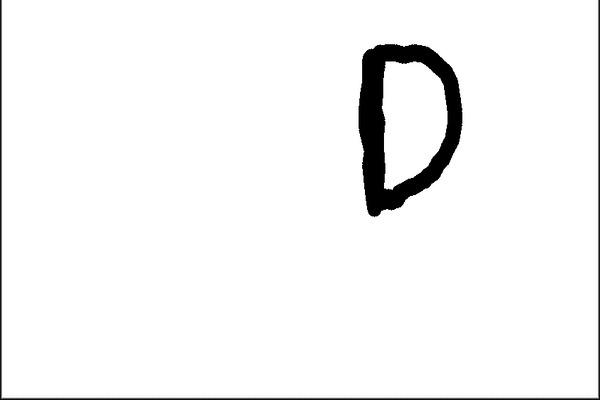D: (351, 36, 466, 221)
